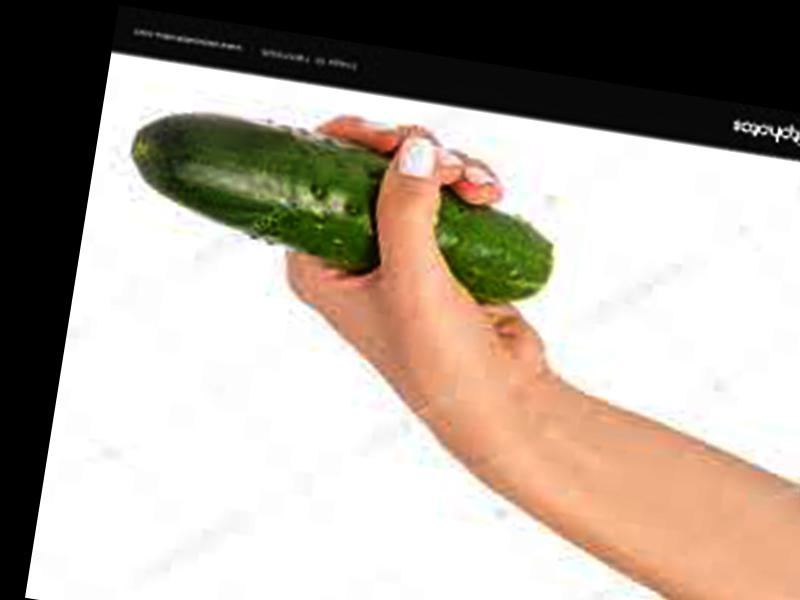Cucumber: (115, 101, 564, 311)
